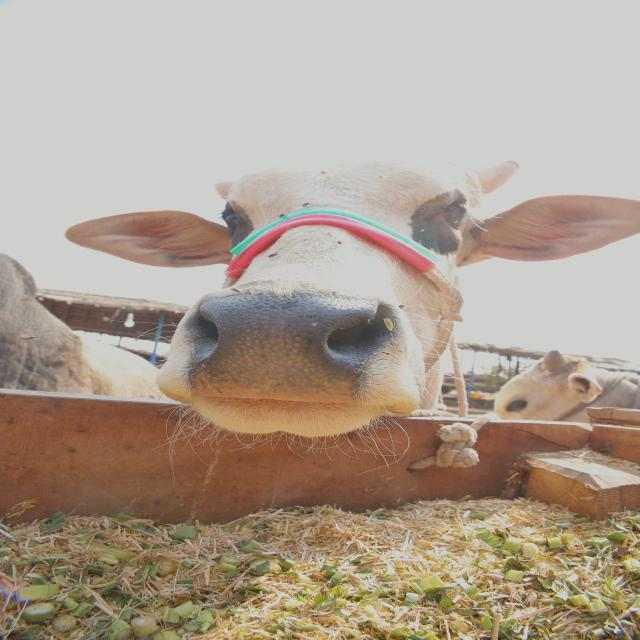muzzles: (175, 284, 407, 414)
